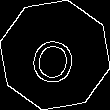O_N: (28, 25, 82, 85)
